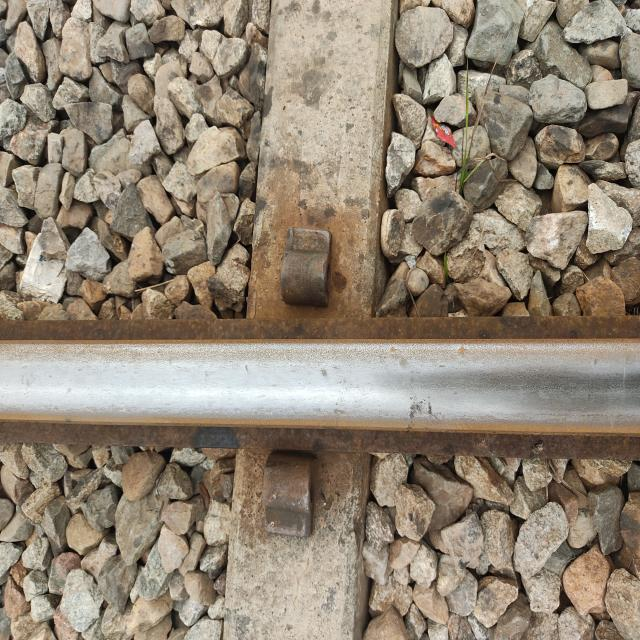Faults: (277, 222, 334, 309), (253, 463, 315, 542)
